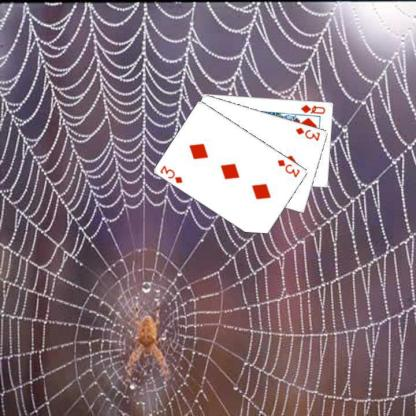3D: (275, 156, 302, 178), (158, 163, 184, 184), (293, 125, 321, 142)
QD: (299, 102, 326, 115)
